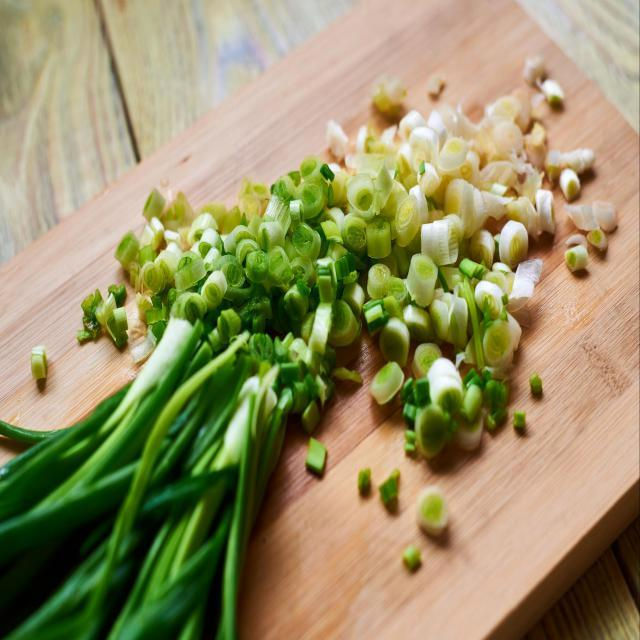green_onion: (115, 61, 595, 459), (0, 310, 331, 640)
